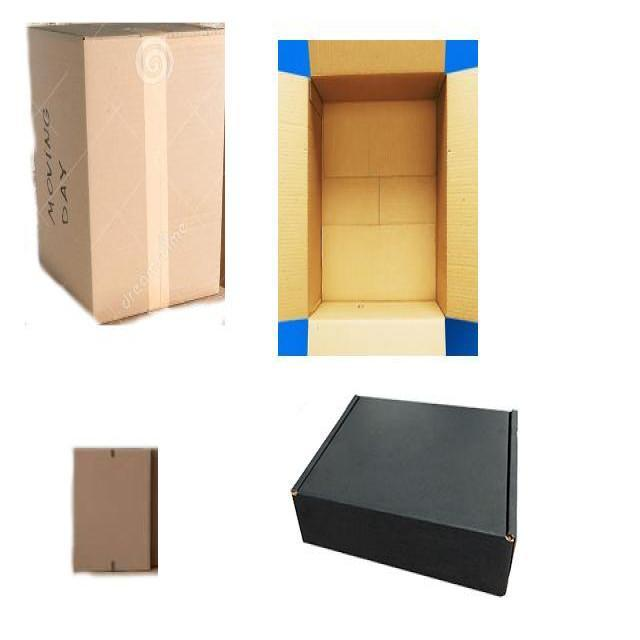Cardboard: (276, 40, 480, 365), (28, 17, 223, 326), (287, 391, 519, 603), (73, 445, 159, 575)
